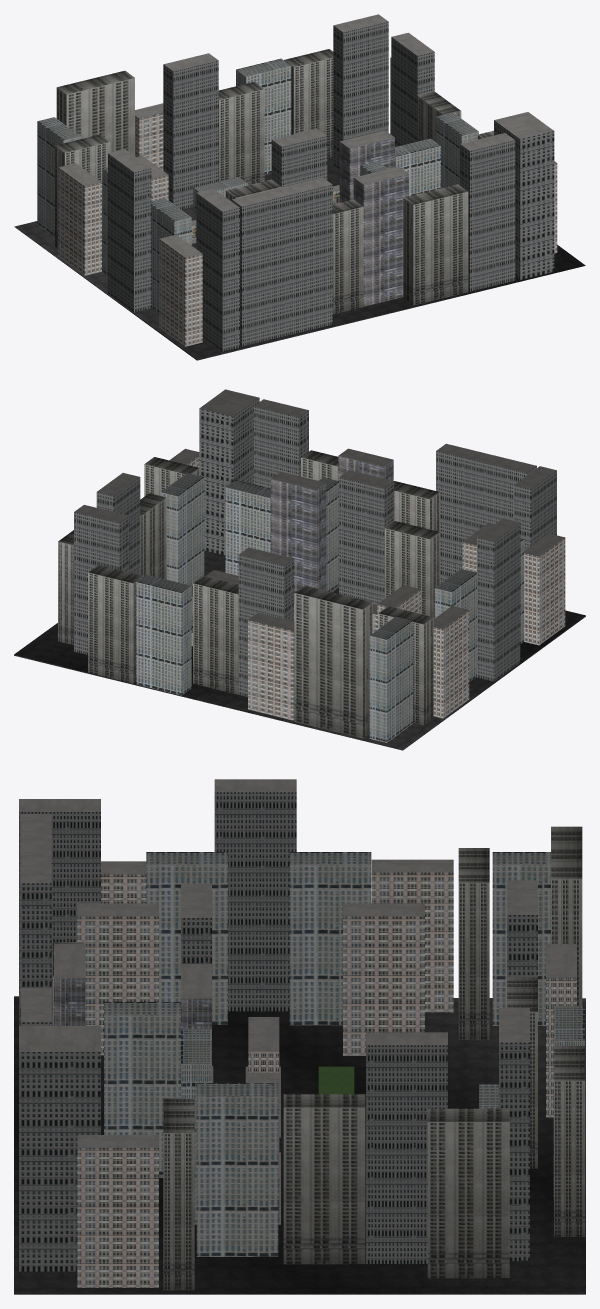
Rendered from ENVO_newyork.obj.
3 views of the same model, one above another, from view 1: azimuth 30°, elevation 25°; view 2: azimuth 150°, elevation 25°; view 3: azimuth 270°, elevation 25° (orthographic). The views are drawn at different scales.
Parts seen in each view (by area): view 1: newyork; view 2: newyork; view 3: newyork.
Boxes of the visible parts, box(x1,y1,x2,y2) form: newyork: box(14, 14, 585, 360); newyork: box(14, 389, 585, 750); newyork: box(14, 779, 585, 1294).
Size of what is drawn, in the model's own units: 15043 by 5241 by 12263.
Materials: 10 (10 with a texture image).
